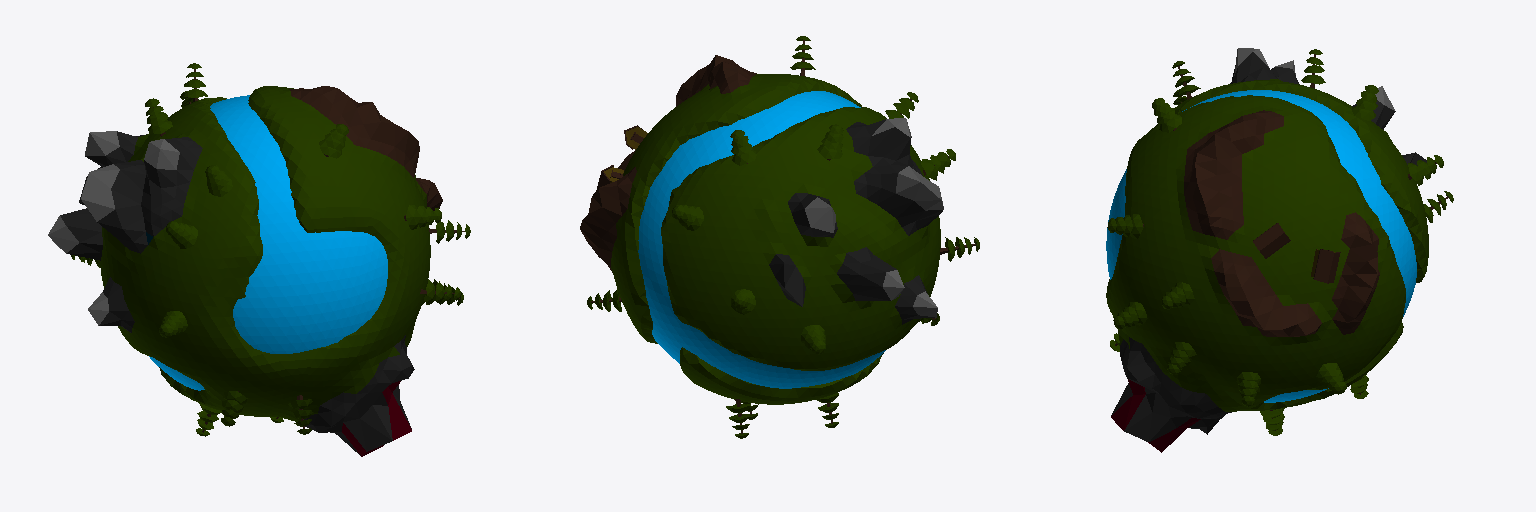
3 renders of one model, left to right at view 1: azimuth 30°, elevation 25°; view 2: azimuth 150°, elevation 25°; view 3: azimuth 270°, elevation 25°, orthographic.
Visible parts, largest first — view 1: World_Icosphere, Water_Icosphere.002, Cube.008_Cube.014, Cube.007_Cube.013, Cube.017_Cube.024, Cube.027_Cube.035, Cube.010_Cube.017, Cube.009_Cube.016, Cube.011_Cube.018; view 2: World_Icosphere, Water_Icosphere.002, Cube.017_Cube.024, Cube.018_Cube.025, Cube.019_Cube.026, Cube.010_Cube.017, Cube.021_Cube.029; view 3: World_Icosphere, Water_Icosphere.002, Cube.001_Cube.007, Cube_Cube.006, Cube.007_Cube.013, Cube.008_Cube.014, Cube.003_Cube.009, Cube.005_Cube.011, Cube.004_Cube.010, Cube.002_Cube.008, Cube.006_Cube.012, Cube.018_Cube.025 (+1 smaller).
Boxes of the visible parts, x1,y1,x2,y2 form: World_Icosphere: [48, 86, 442, 456]; Water_Icosphere.002: [149, 95, 387, 390]; Cube.008_Cube.014: [319, 124, 348, 158]; Cube.007_Cube.013: [404, 205, 441, 229]; Cube.017_Cube.024: [145, 98, 172, 136]; Cube.027_Cube.035: [221, 391, 247, 426]; Cube.010_Cube.017: [166, 221, 197, 248]; Cube.009_Cube.016: [205, 165, 232, 196]; Cube.011_Cube.018: [159, 311, 187, 337]; World_Icosphere: [580, 55, 943, 404]; Water_Icosphere.002: [638, 91, 885, 388]; Cube.017_Cube.024: [817, 124, 843, 160]; Cube.018_Cube.025: [730, 130, 756, 165]; Cube.019_Cube.026: [672, 205, 703, 230]; Cube.010_Cube.017: [921, 149, 955, 180]; Cube.021_Cube.029: [801, 325, 825, 354]; World_Icosphere: [1106, 48, 1428, 452]; Water_Icosphere.002: [1106, 90, 1416, 402]; Cube.001_Cube.007: [1311, 249, 1340, 283]; Cube_Cube.006: [1253, 223, 1290, 258]; Cube.007_Cube.013: [1107, 214, 1143, 238]; Cube.008_Cube.014: [1152, 98, 1181, 132]; Cube.003_Cube.009: [1167, 342, 1196, 374]; Cube.005_Cube.011: [1113, 302, 1147, 329]; Cube.004_Cube.010: [1236, 372, 1260, 406]; Cube.002_Cube.008: [1316, 363, 1346, 394]; Cube.006_Cube.012: [1161, 282, 1194, 309]; Cube.018_Cube.025: [1352, 85, 1378, 120].
Size of the model in its own units: 36.5 by 33.88 by 31.47.
Materials: 4 (2 with a texture image).